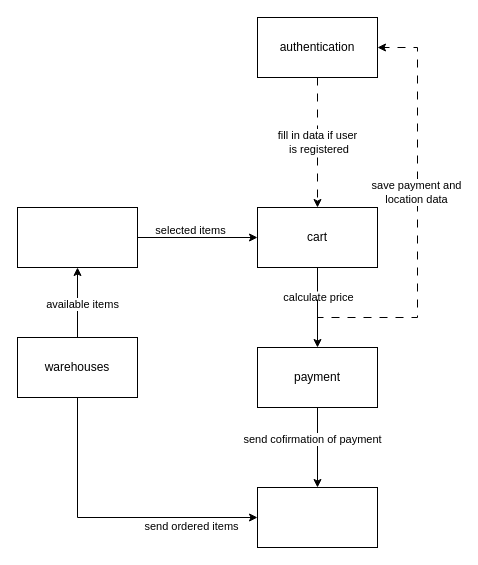
Image size: 478x565. Some labels were removed from this diagram. The centre of each missing label's shape, as x and y in pixels:
"catalogue" belongs at point (77, 237).
"shipping" belongs at point (317, 517).
